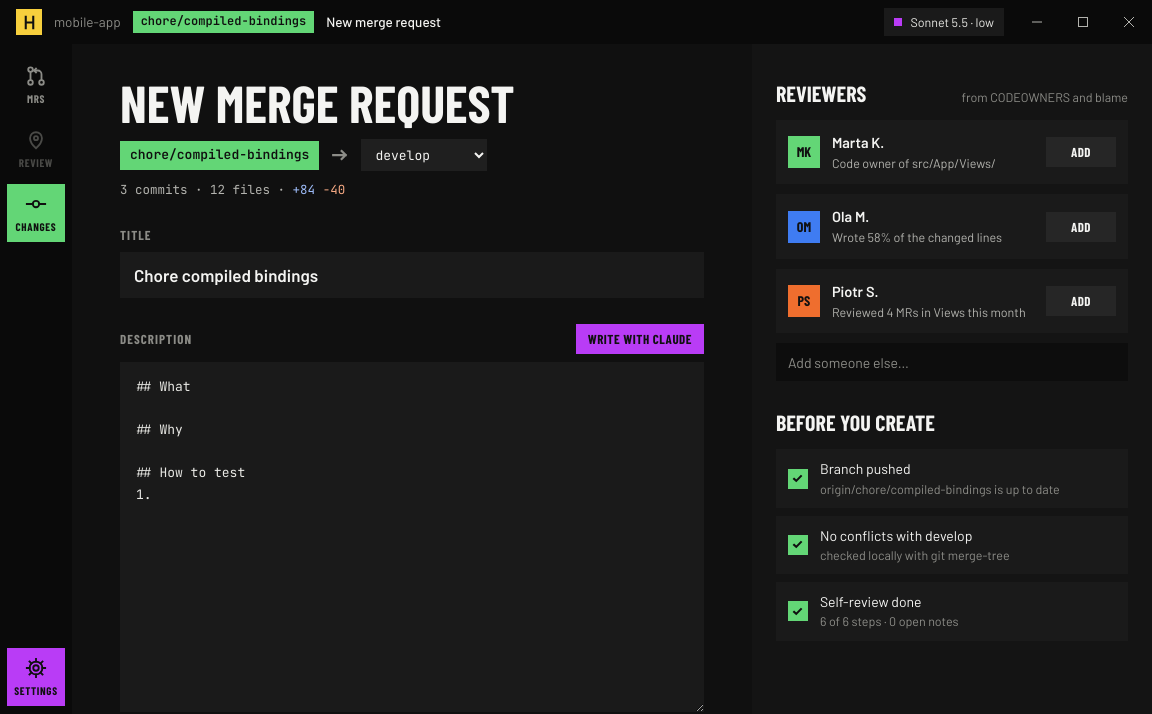
Test case: S-11 reviewers (F-27.3) › F-27.3 a result already added reads Added and a search without a match says so
The image size is (1152, 714).
Expected: the text "Marta K." is shown, [832,133,884,151]
Click the button with aria-label "Add Ola M." at (1081, 227), box [1046,212,1116,242]
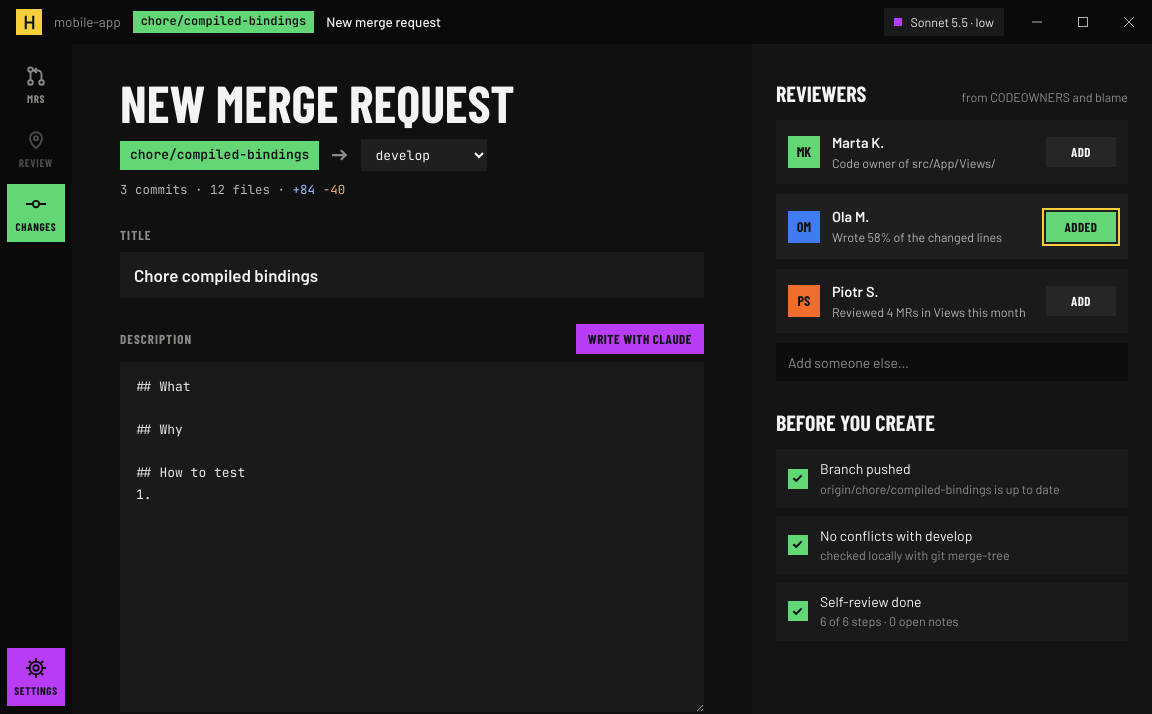
Type "ola" into the field named "Add another reviewer" at (952, 362), box [776,343,1128,381]
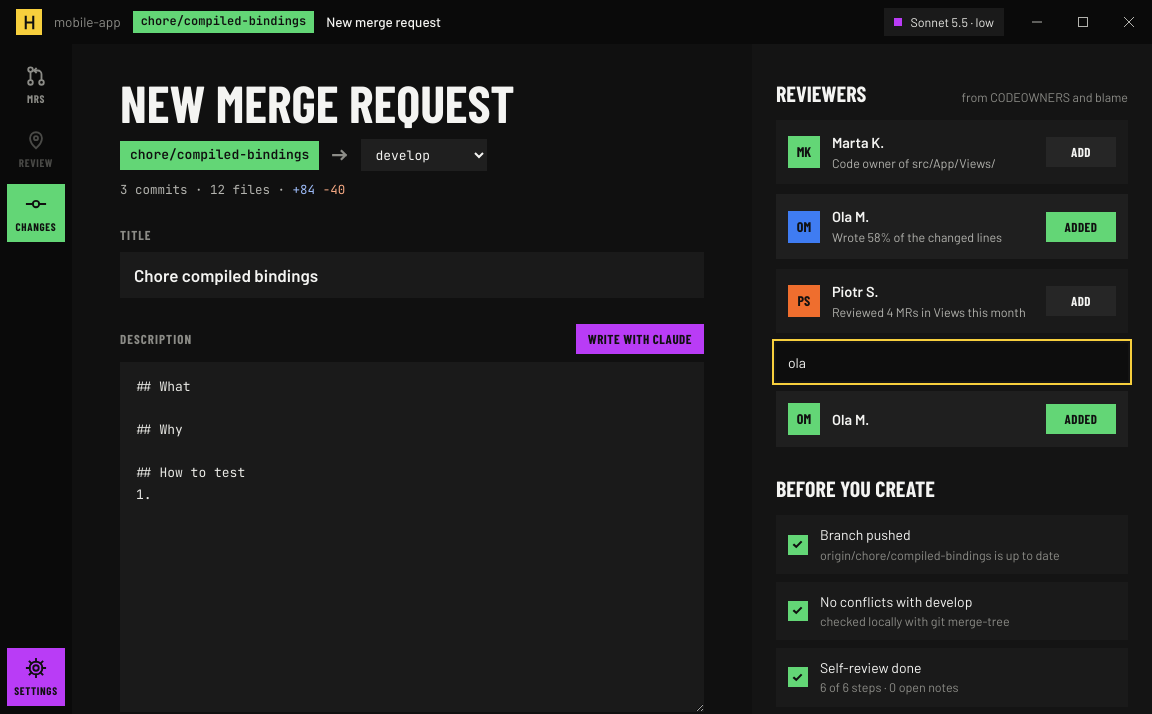
Expected: the button with aria-label "Remove Ola M." reads "Added", [1046,404,1116,434]
Clear the field named "Add another reviewer" at (952, 362), box [776,343,1128,381]
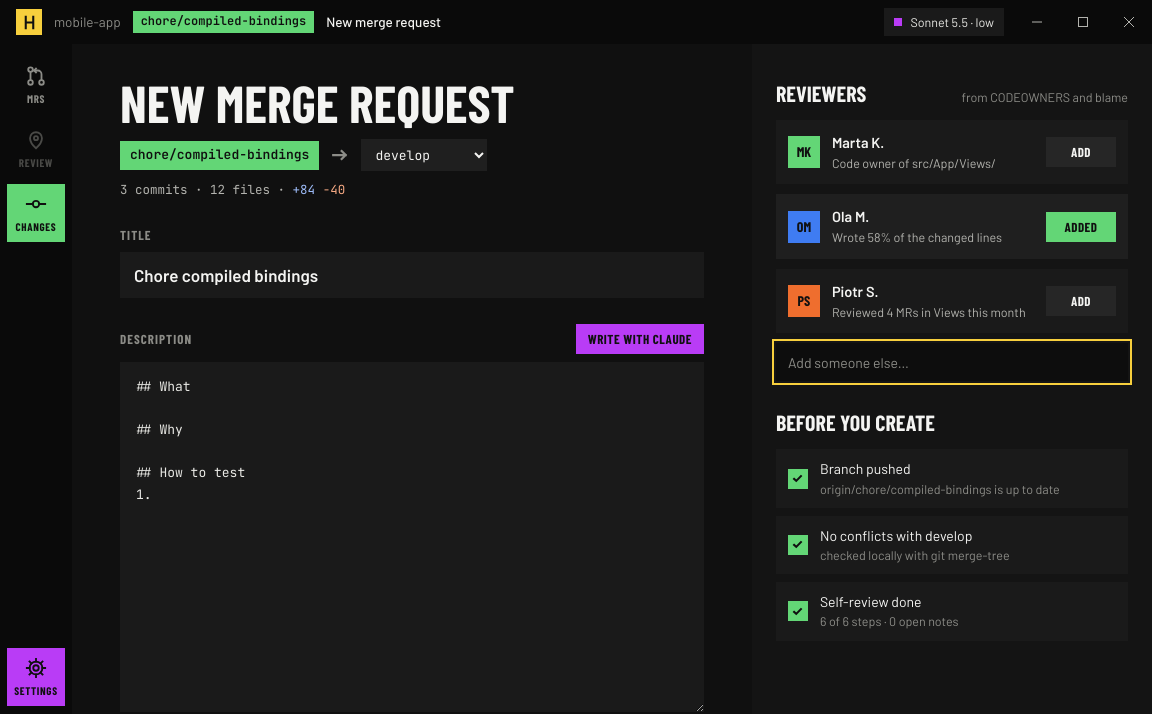
Type "zzz" into the field named "Add another reviewer" at (952, 362), box [776,343,1128,381]
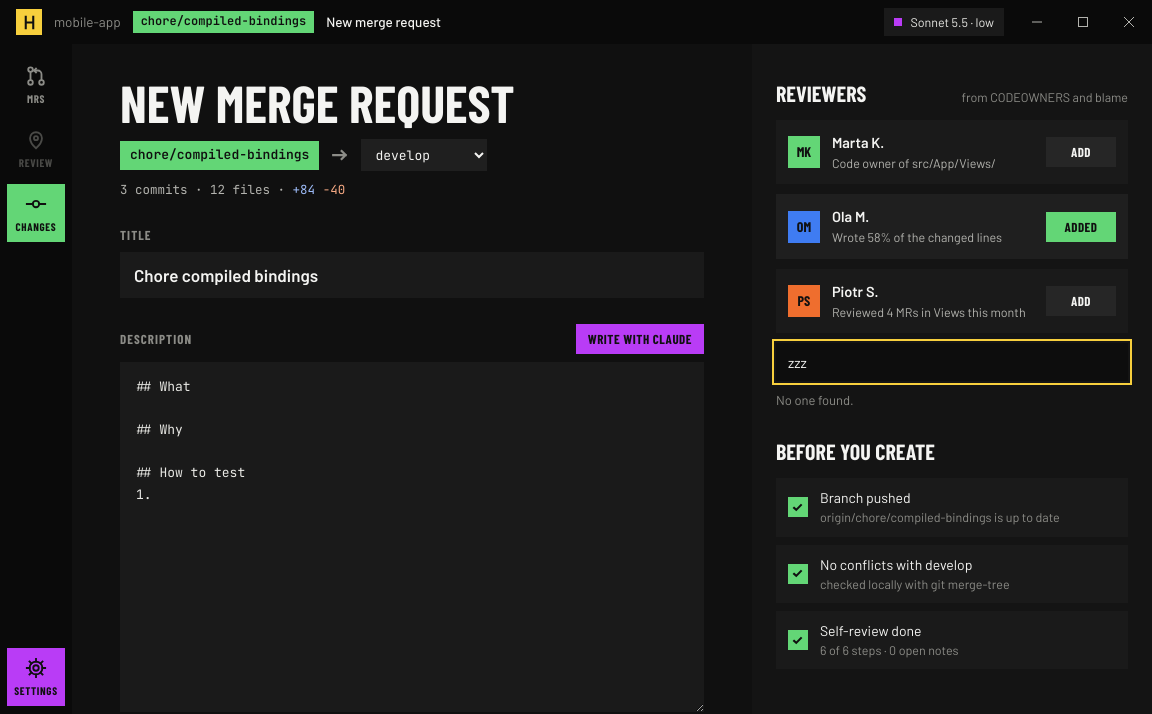
Expected: the text "No one found." is shown, [776,392,854,408]
Clear the field named "Add another reviewer" at (952, 362), box [776,343,1128,381]
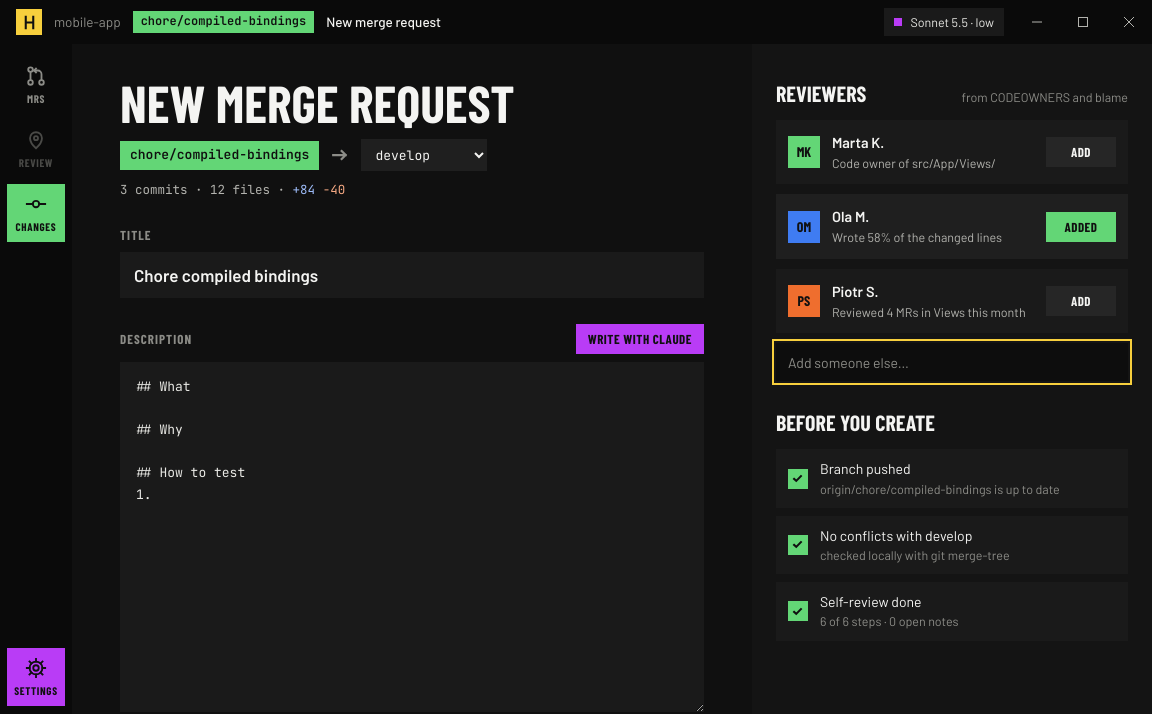
Expected: the text "No one found." is gone
